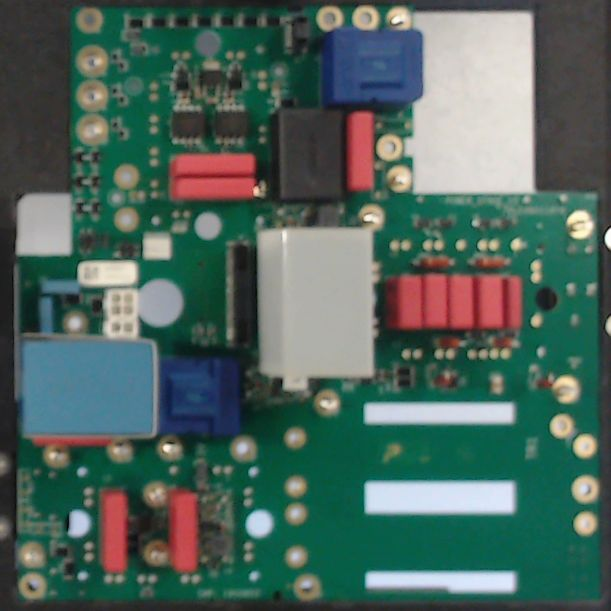comp1: (323, 28, 425, 107), (157, 356, 242, 435)
comp2: (98, 488, 132, 576), (166, 489, 199, 573), (171, 175, 256, 202), (385, 273, 422, 332), (347, 112, 373, 194), (169, 154, 259, 177), (447, 273, 474, 334), (475, 274, 503, 329), (422, 272, 447, 332), (504, 272, 522, 332)
comp3: (272, 107, 344, 200)
comp4: (254, 227, 377, 380), (19, 329, 161, 441)
